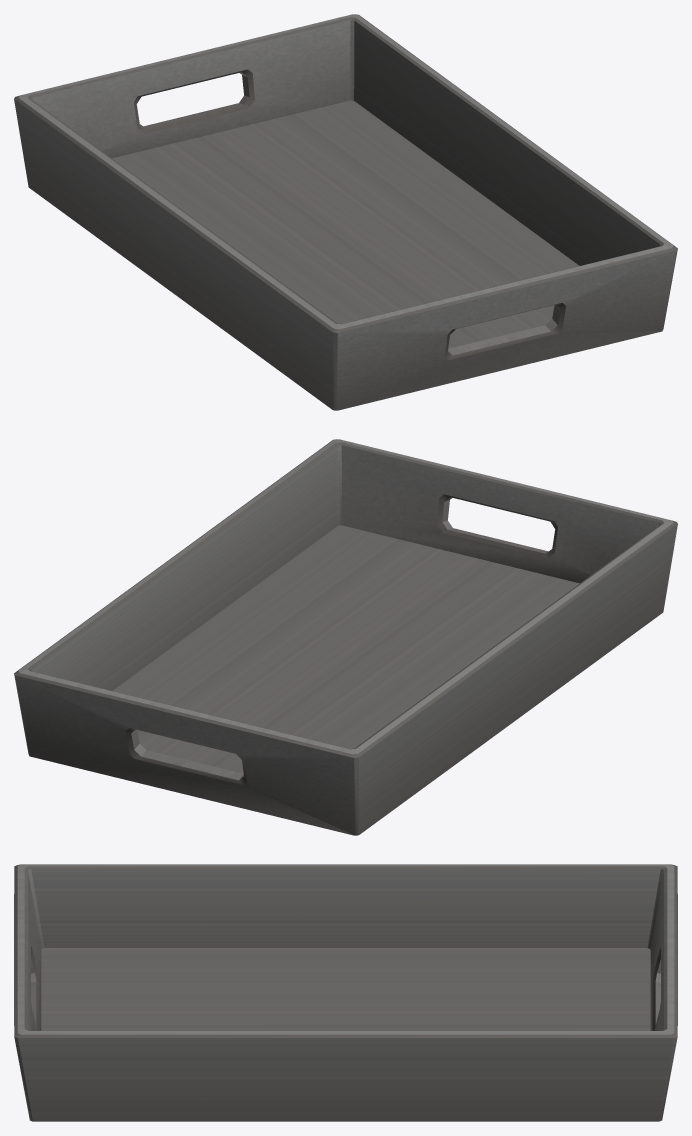
Rendered from CakeTin_2_B.glb.
3 views of the same model, one above another, from view 1: azimuth 30°, elevation 25°; view 2: azimuth 150°, elevation 25°; view 3: azimuth 270°, elevation 25° (orthographic). The views are drawn at different scales.
Visible parts, largest first — view 1: CakeTin_2_B; view 2: CakeTin_2_B; view 3: CakeTin_2_B.
Boxes of the visible parts, x1,y1,x2,y2 form: CakeTin_2_B: [14, 14, 677, 410]; CakeTin_2_B: [14, 439, 677, 835]; CakeTin_2_B: [14, 864, 677, 1121].
Bounding box in the file's own units: 0.3776 × 0.0919 × 0.6122.
1 material, 1 textured.
